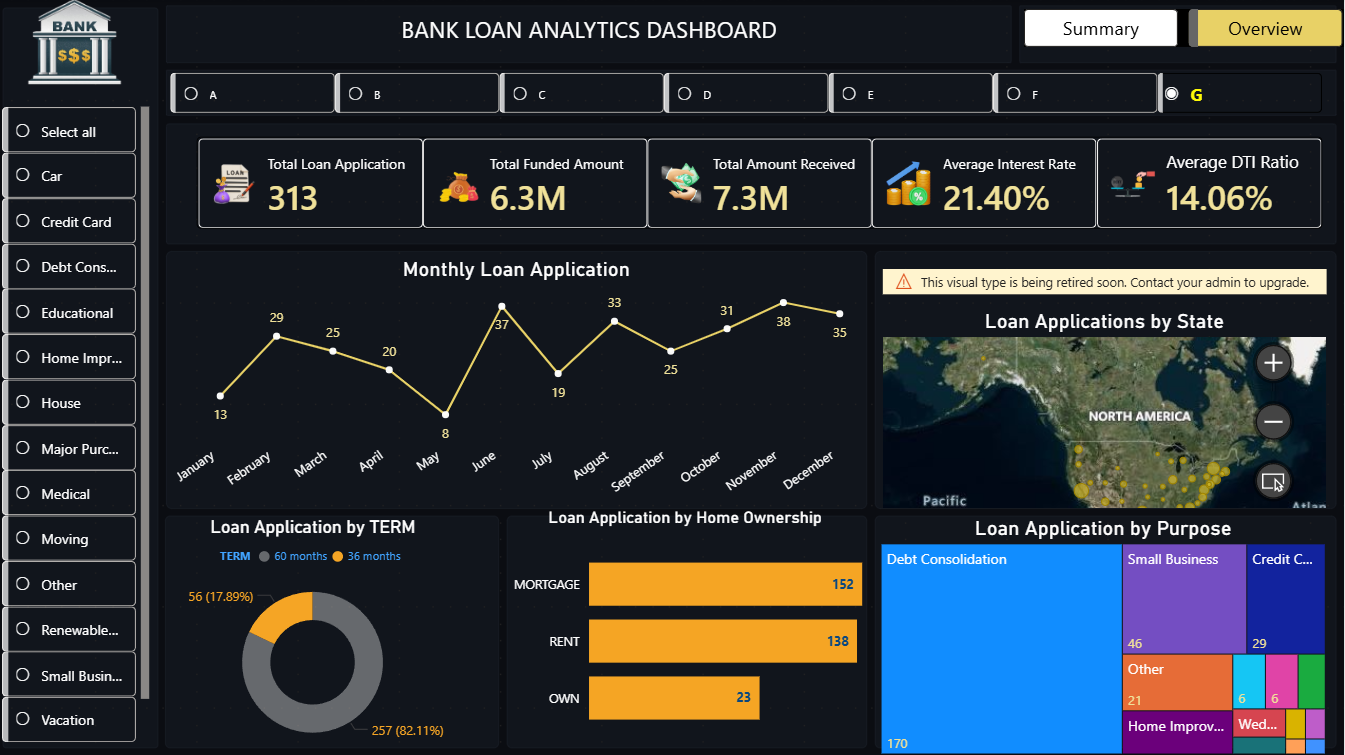

The dashboard page shown, as its layout file describes it:
{"tool":"powerbi","page":{"name":"Overview","canvas":[1280,720],"ordinal":1},"visuals":[{"type":"cardVisual","fields":{"Data":["financial_loan.Total Loan Application","financial_loan.Total Funded Amount","financial_loan.Total Amount Received","financial_loan.Average Interest Rate","financial_loan.Average DTI Ratio"]},"box":[175.3,114.1,1104.7,121],"z":0},{"type":"image","box":[0,0,153,80.7],"z":1000},{"type":"advancedSlicerVisual","fields":{"Values":["financial_loan.PURPOSE"]},"box":[2.8,97.4,150.3,623.3],"z":2000},{"type":"advancedSlicerVisual","fields":{"Values":["financial_loan.GRADE"]},"box":[162.8,65.4,1104.7,48.7],"z":3000},{"type":"shape","box":[162.8,0,804.2,55.7],"z":4000},{"type":"pageNavigator","box":[976.7,9.7,303.3,36.2],"z":5000},{"type":"lineChart","title":"Monthly Loan Application","fields":{"Category":["financial_loan.ISSUE_DATE.Variation.Date Hierarchy.Month"],"Y":["financial_loan.Total Loan Application"]},"box":[162.4,245.3,666.1,245.3],"z":6000},{"type":"donutChart","title":" Loan Application by TERM","fields":{"Category":["financial_loan.TERM"],"Y":["financial_loan.Total Loan Application"]},"box":[131.6,490.7,341.3,229.9],"z":7000},{"type":"clusteredBarChart","title":"Loan Application by Home Ownership","fields":{"Category":["financial_loan.HOME_OWNERSHIP"],"Y":["financial_loan.Total Loan Application"]},"box":[482.4,490.7,346.1,229.9],"z":8000},{"type":"treemap","title":"Loan Application by Purpose","fields":{"Group":["financial_loan.PURPOSE"],"Values":["financial_loan.Total Loan Application"]},"box":[836.7,490.7,430.2,229.9],"z":9000},{"type":"map","title":"Loan Applications by State","fields":{"Category":["financial_loan.ADDRESS_STATE"],"Size":["financial_loan.Total Loan Application"]},"box":[837.9,256,430.2,226.4],"z":10000}]}

Visuals, with their boxes on the page's 1280x720 design canvas (x1, y1, x2, y2). These are canvas units, not pixel positions in the 1345x755 screenshot, which may show the page scaled, cropped or inside an application window:
cardVisual - financial_loan.Total Loan Application x financial_loan.Total Funded Amount: {"x1": 175, "y1": 114, "x2": 1280, "y2": 235}
image: {"x1": 0, "y1": 0, "x2": 153, "y2": 81}
advancedSlicerVisual - financial_loan.PURPOSE: {"x1": 3, "y1": 97, "x2": 153, "y2": 721}
advancedSlicerVisual - financial_loan.GRADE: {"x1": 163, "y1": 65, "x2": 1268, "y2": 114}
shape: {"x1": 163, "y1": 0, "x2": 967, "y2": 56}
pageNavigator: {"x1": 977, "y1": 10, "x2": 1280, "y2": 46}
"Monthly Loan Application" lineChart: {"x1": 162, "y1": 245, "x2": 828, "y2": 491}
" Loan Application by TERM" donutChart: {"x1": 132, "y1": 491, "x2": 473, "y2": 721}
"Loan Application by Home Ownership" clusteredBarChart: {"x1": 482, "y1": 491, "x2": 828, "y2": 721}
"Loan Application by Purpose" treemap: {"x1": 837, "y1": 491, "x2": 1267, "y2": 721}
"Loan Applications by State" map: {"x1": 838, "y1": 256, "x2": 1268, "y2": 482}
